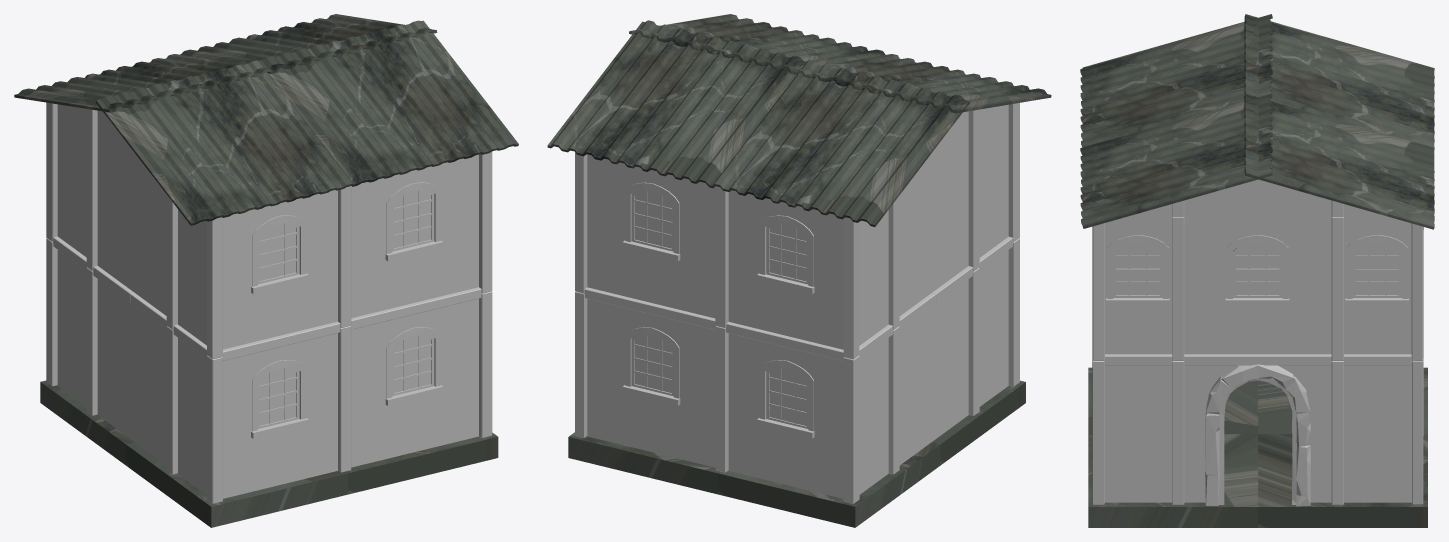
The model's file is House1.fbx.
3 renders of one model, left to right at view 1: azimuth 30°, elevation 25°; view 2: azimuth 150°, elevation 25°; view 3: azimuth 270°, elevation 25°, orthographic.
Parts seen in each view (by area): view 1: House1_LOD0; view 2: House1_LOD0; view 3: House1_LOD0.
Boxes of the visible parts, x1,y1,x2,y2 form: House1_LOD0: (14,14,518,527); House1_LOD0: (547,14,1051,527); House1_LOD0: (1080,14,1434,527).
Size of what is drawn, in the model's own units: 552 by 593 by 520.
